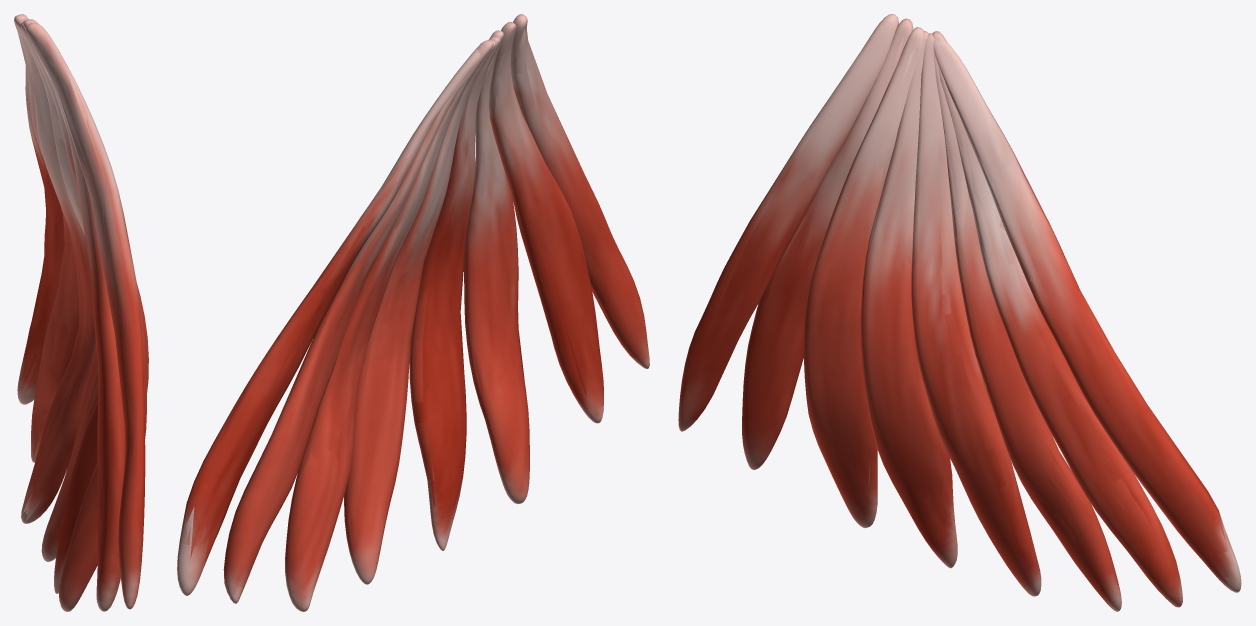
The model's file is L Serratus Ventralis thoracis.fbx.
The picture shows the model from 3 angles, left to right: view 1: azimuth 30°, elevation 25°; view 2: azimuth 150°, elevation 25°; view 3: azimuth 270°, elevation 25°; orthographic projection. The views are drawn at different scales.
Visible parts, largest first — view 1: L Serratus Ventralis thoracis, L Serratus Ventralis thoracis low; view 2: L Serratus Ventralis thoracis, L Serratus Ventralis thoracis low; view 3: L Serratus Ventralis thoracis, L Serratus Ventralis thoracis low.
Part boxes in pixels (x1,y1,x2,y2): L Serratus Ventralis thoracis: (14, 14, 148, 611); L Serratus Ventralis thoracis low: (17, 14, 148, 579); L Serratus Ventralis thoracis: (177, 14, 649, 611); L Serratus Ventralis thoracis low: (178, 21, 643, 608); L Serratus Ventralis thoracis: (678, 14, 1241, 611); L Serratus Ventralis thoracis low: (720, 23, 1232, 606).
Bounding box in the file's own units: 17.76 × 45.59 × 42.79.
